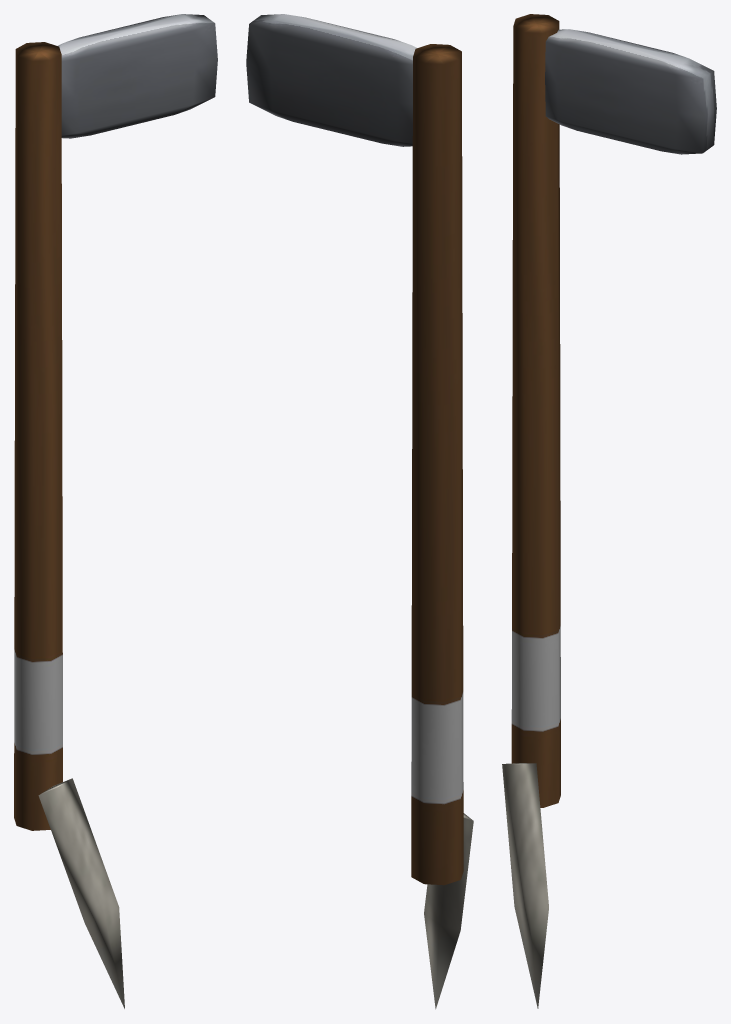
File: tomahawk.glb
3 views of the same model, side by side, from view 1: azimuth 30°, elevation 25°; view 2: azimuth 150°, elevation 25°; view 3: azimuth 330°, elevation 25° (orthographic). The views are drawn at different scales.
Visible parts, largest first — view 1: tomahawk; view 2: tomahawk; view 3: tomahawk.
Part boxes in pixels (x1,y1,x2,y2): tomahawk: [14, 14, 217, 1008]; tomahawk: [246, 14, 473, 1009]; tomahawk: [502, 14, 716, 1008].
Bounding box in the file's own units: 0.1331 × 0.61 × 0.065.
Materials: 1 (1 with a texture image).
